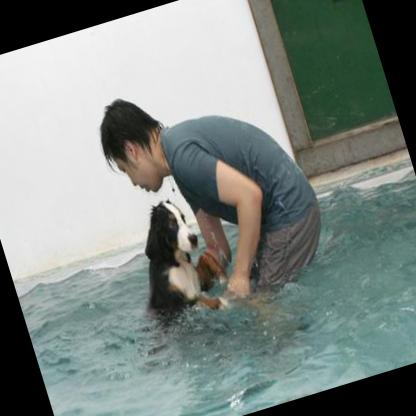Bernese_mountain_dog: (111, 184, 239, 336)
